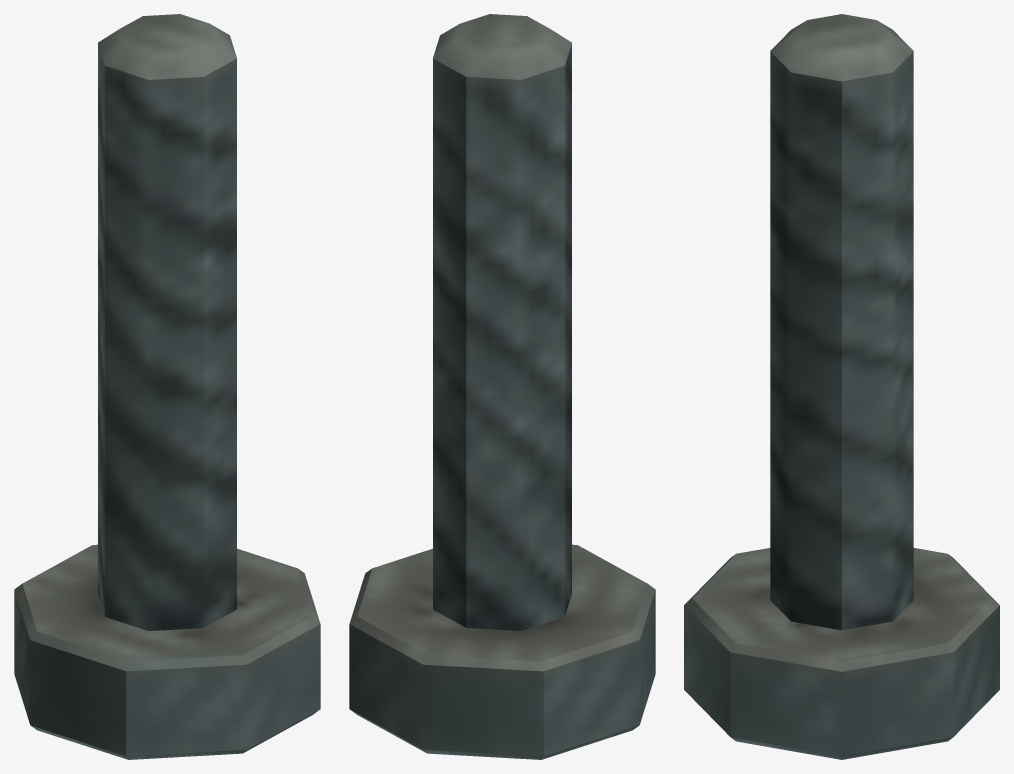
Rendered from PROP_044_Screws.fbx.
3 views of the same model, side by side, from view 1: azimuth 30°, elevation 25°; view 2: azimuth 150°, elevation 25°; view 3: azimuth 270°, elevation 25° (orthographic).
Parts seen in each view (by area): view 1: Tornillo.001; view 2: Tornillo.001; view 3: Tornillo.001.
Part boxes in pixels (x1=…): Tornillo.001: x1=14, y1=14, x2=320, y2=759; Tornillo.001: x1=349, y1=14, x2=655, y2=759; Tornillo.001: x1=684, y1=14, x2=999, y2=759.
Size of the model in its own units: 0.1562 by 0.3614 by 0.1562.
1 material, 1 textured.
